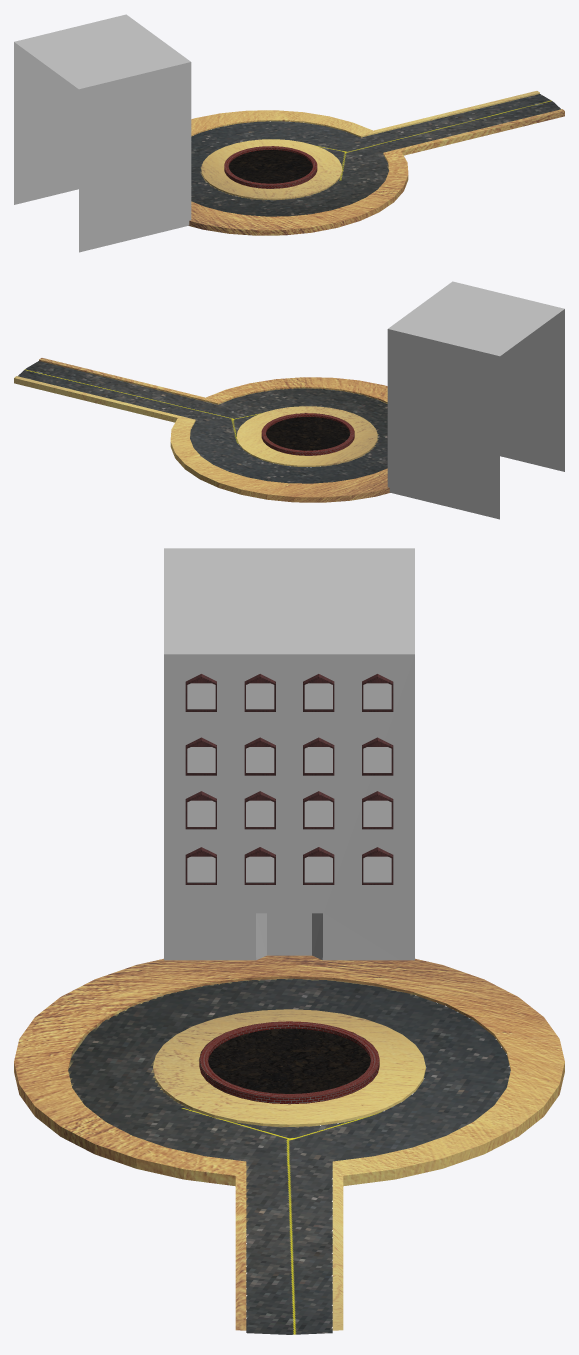
Rendered from Hotel.dae.
3 views of the same model, one above another, from view 1: azimuth 30°, elevation 25°; view 2: azimuth 150°, elevation 25°; view 3: azimuth 270°, elevation 25° (orthographic). The views are drawn at different scales.
Visible parts, largest first — view 1: Building, Road, FlowerBed; view 2: Building, Road, FlowerBed; view 3: Road, Building, Pane, FlowerBed.
Part boxes in pixels (bbox=[...]): Building: bbox=[14, 14, 191, 252]; Road: bbox=[188, 91, 564, 235]; FlowerBed: bbox=[224, 146, 317, 188]; Building: bbox=[387, 281, 564, 519]; Road: bbox=[14, 358, 390, 502]; FlowerBed: bbox=[261, 413, 354, 455]; Road: bbox=[14, 955, 564, 1334]; Building: bbox=[164, 548, 414, 960]; Pane: bbox=[187, 683, 391, 882]; FlowerBed: bbox=[199, 1021, 379, 1104].
Bounding box in the file's own units: 72.17 × 35.16 × 22.28.
